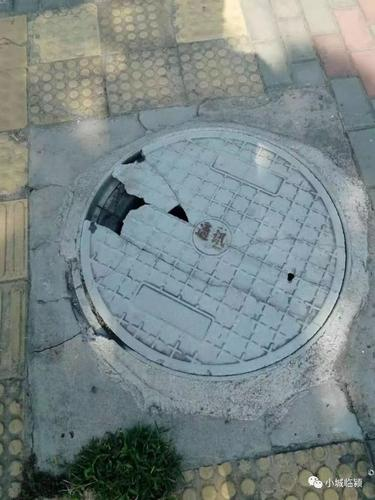broke: (35, 102, 362, 406)
